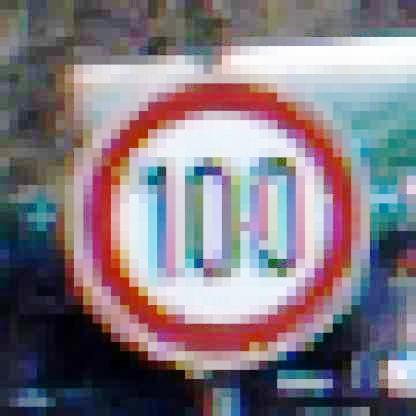Speed Limit -100-: (70, 73, 369, 373)
